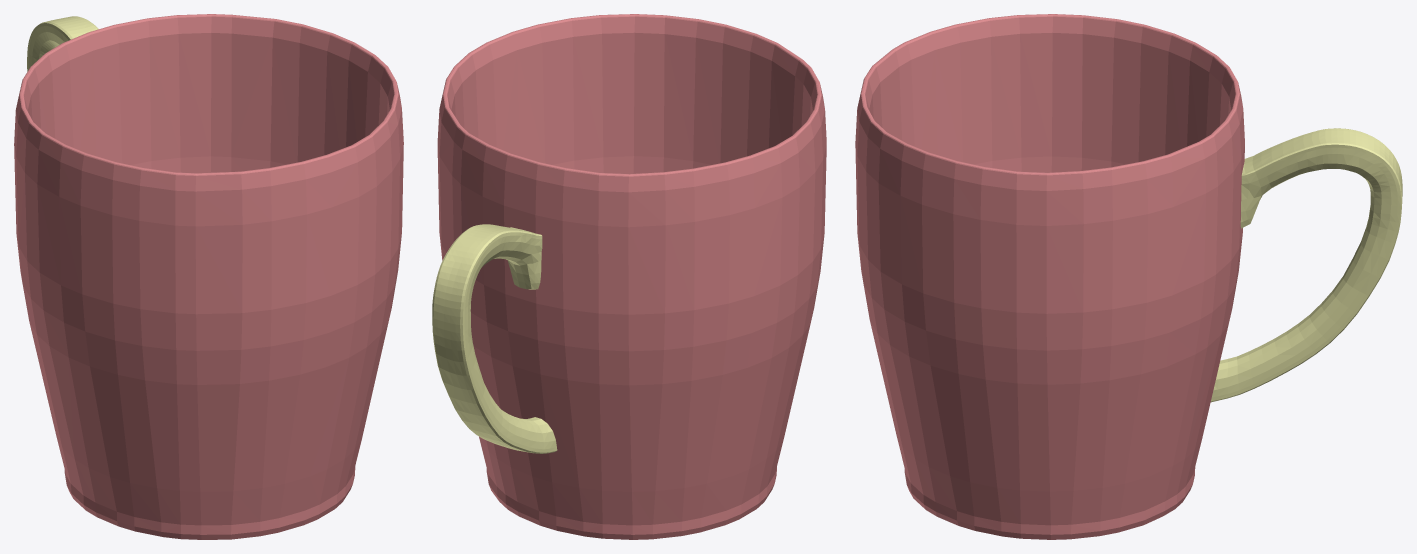
File: 77847_assembly.glb
The picture shows the model from 3 angles, left to right: view 1: azimuth 30°, elevation 25°; view 2: azimuth 150°, elevation 25°; view 3: azimuth 270°, elevation 25°; orthographic projection.
Visible parts, largest first — view 1: part_00, part_01; view 2: part_00, part_01; view 3: part_00, part_01.
Part boxes in pixels (x1,y1,x2,y2): part_00: (14, 14, 403, 539); part_01: (27, 16, 98, 71); part_00: (437, 14, 826, 539); part_01: (432, 224, 557, 453); part_00: (855, 14, 1244, 539); part_01: (1211, 128, 1402, 402).
Size of the model in its own units: 0.919 by 1 by 1.28.
